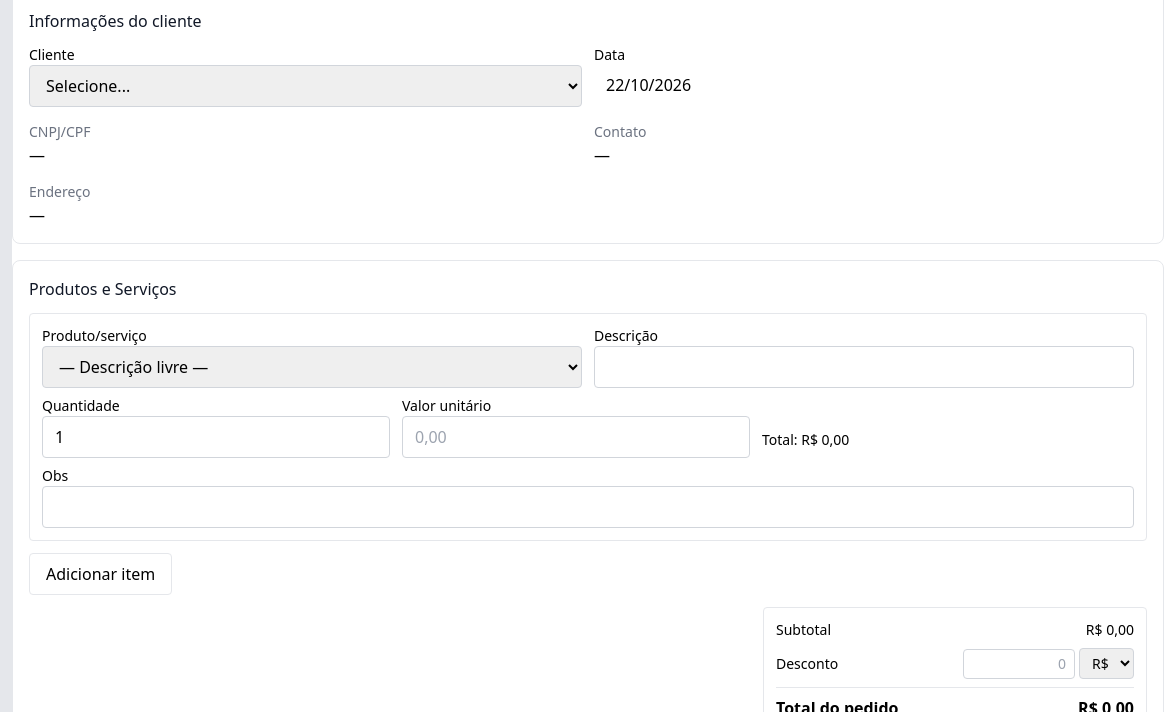
Test case: PedidoForm — item de produto › desconto em % e em R$ reduz o total
Select "Parafuso" in the dropdown labelled "Produto/serviço" at (312,367), box [42,346,582,388]
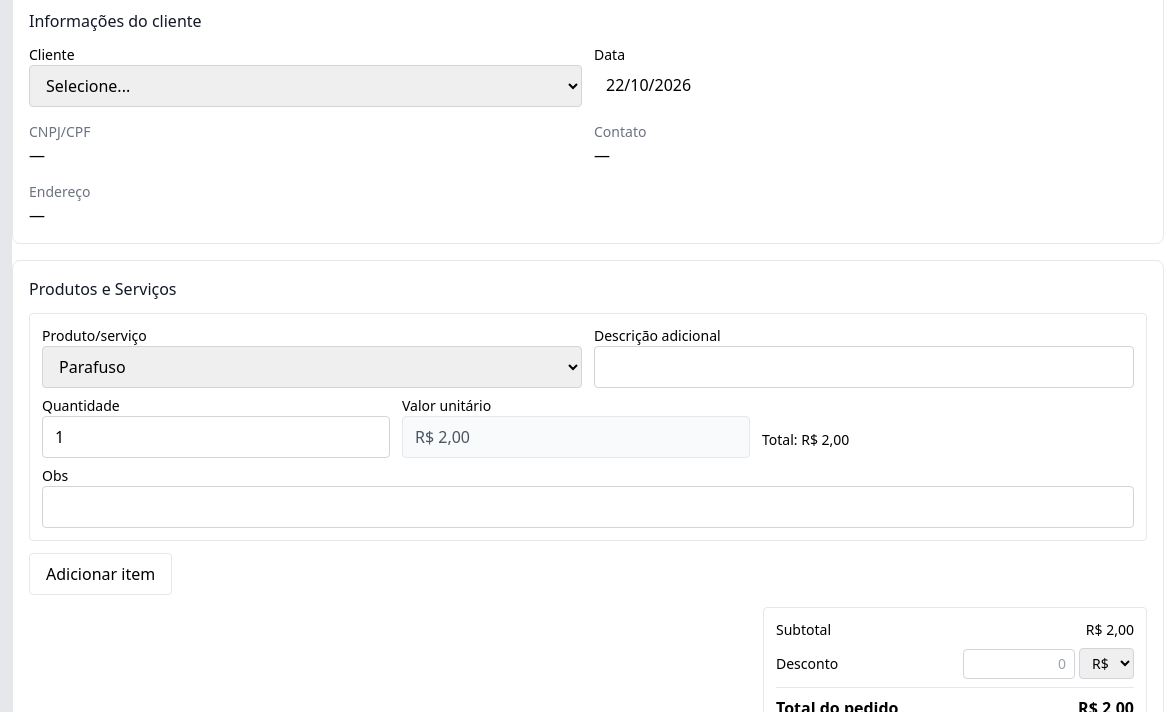
Replace the text in the field labelled "Quantidade" with "50" at (216,437), box [42,416,390,458]
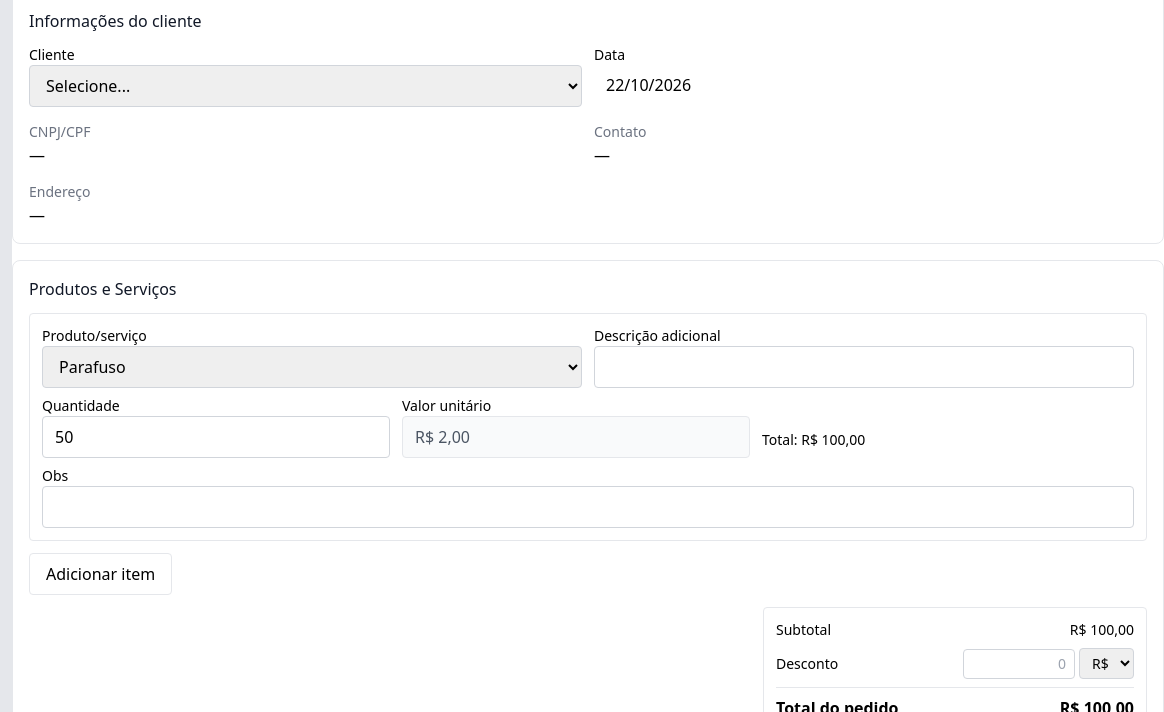
Result: the text "R$ 100,00" next to "Total:" is shown at [801,430,865,449]
Type "10" into the field labelled "Desconto" at (1019,664), box [963,648,1075,678]
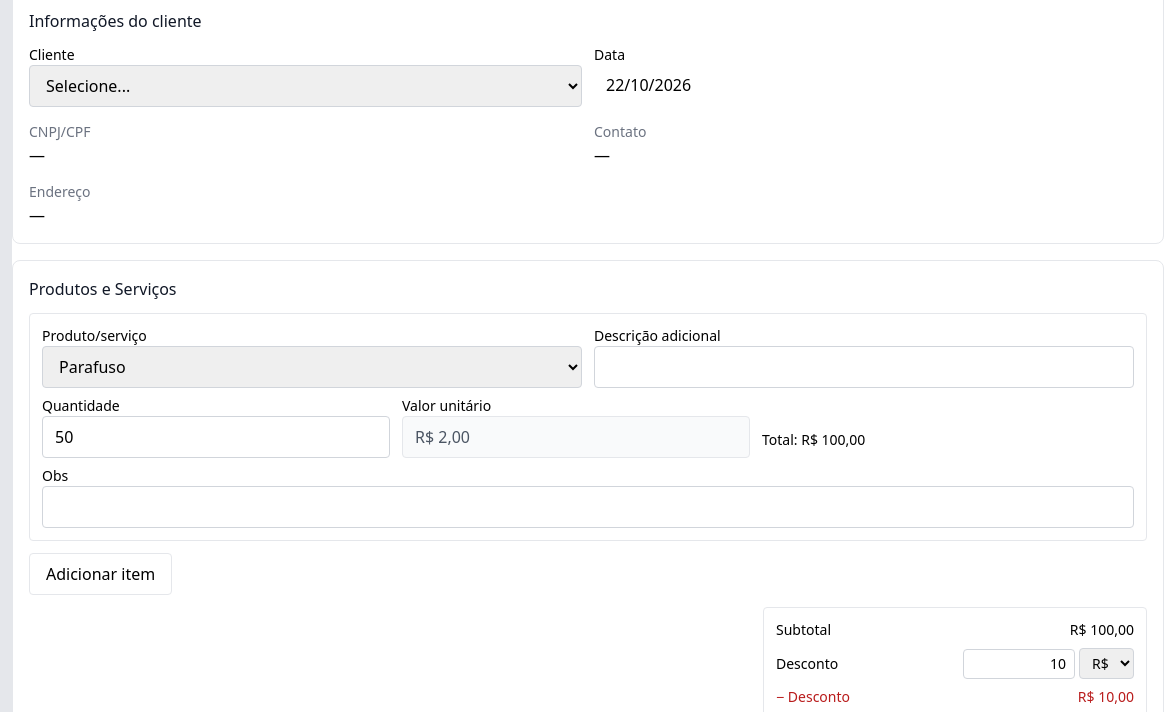
Select "%" in the dropdown named "tipo de desconto" at (1106,664), box [1079,648,1134,679]
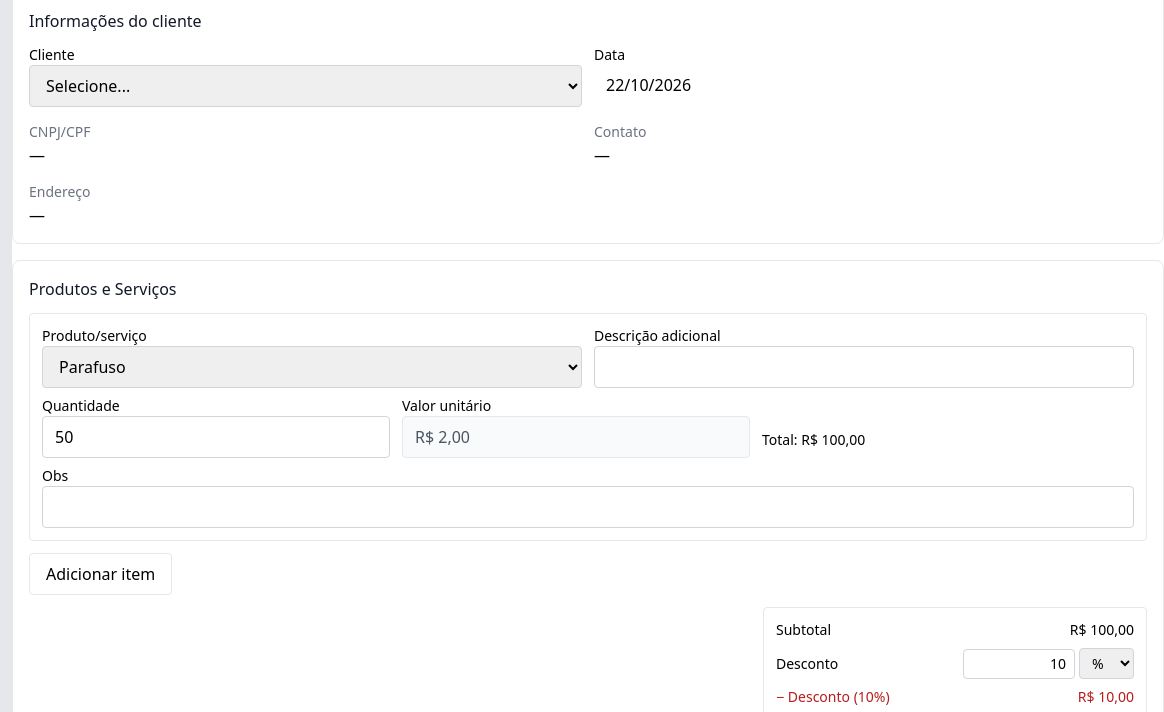
Replace the text in the field labelled "Desconto" with "25" at (1019,664), box [963,648,1075,678]
(page scrolled)
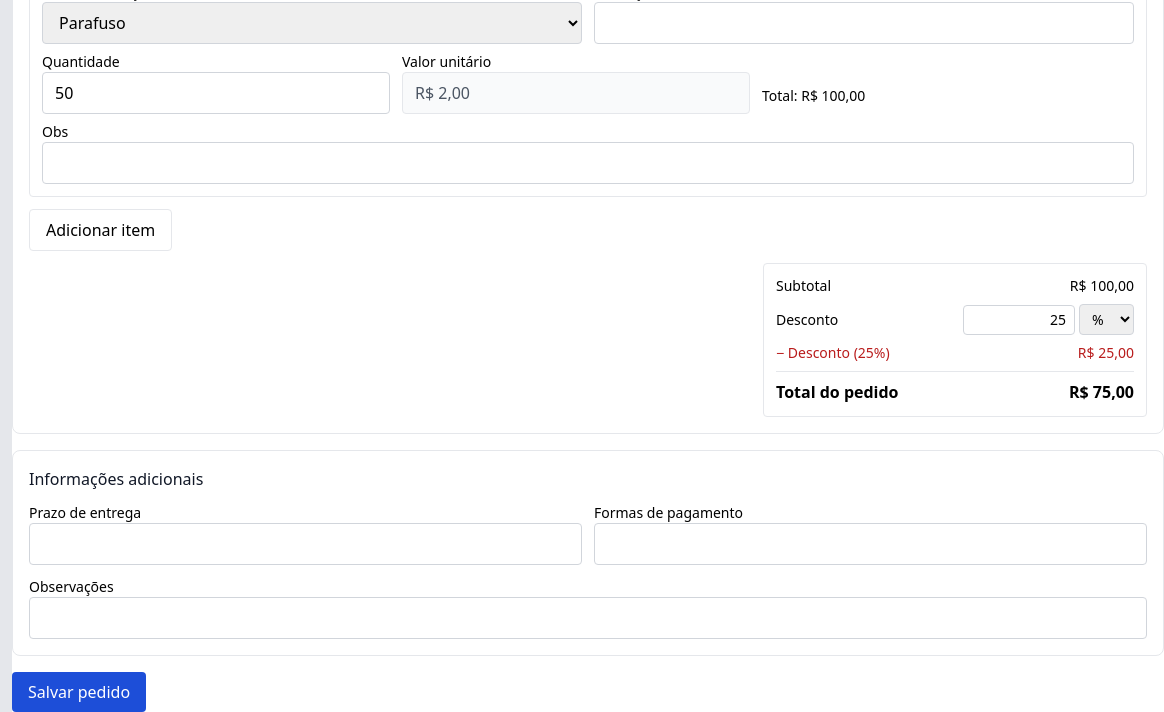
Result: the text with test id "total-pedido" reads "R$ 75,00" at [1069,381,1134,403]
